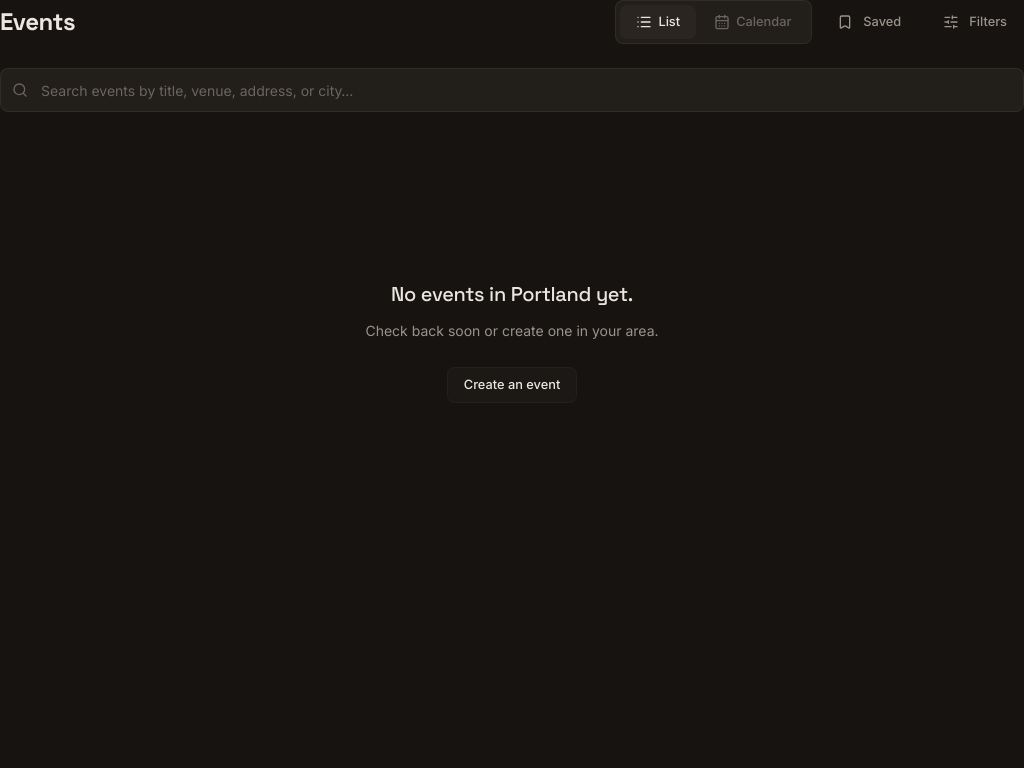
Events page — Step 37 genre filter › shows genre-specific empty state and clears filter from CTA
Expected: the button with aria-label "list view" is shown, x1=619 y1=4 x2=697 y2=40
What coordinates should you click on to do the following:
click the button with aria-label "toggle filters"
I would click on:
 (975, 22)
Its box is x1=926 y1=4 x2=1023 y2=40.
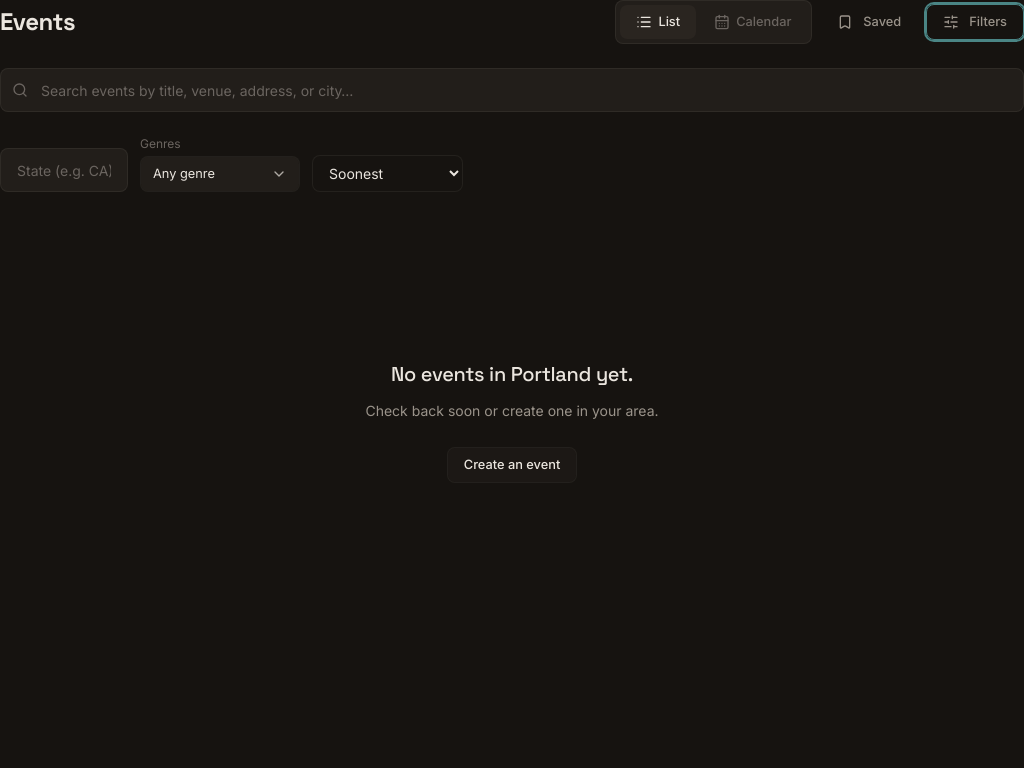
What coordinates should you click on to do the following:
click the button with aria-label "any genre. open genre picker"
I would click on:
 (220, 174)
Its box is x1=140 y1=156 x2=300 y2=192.
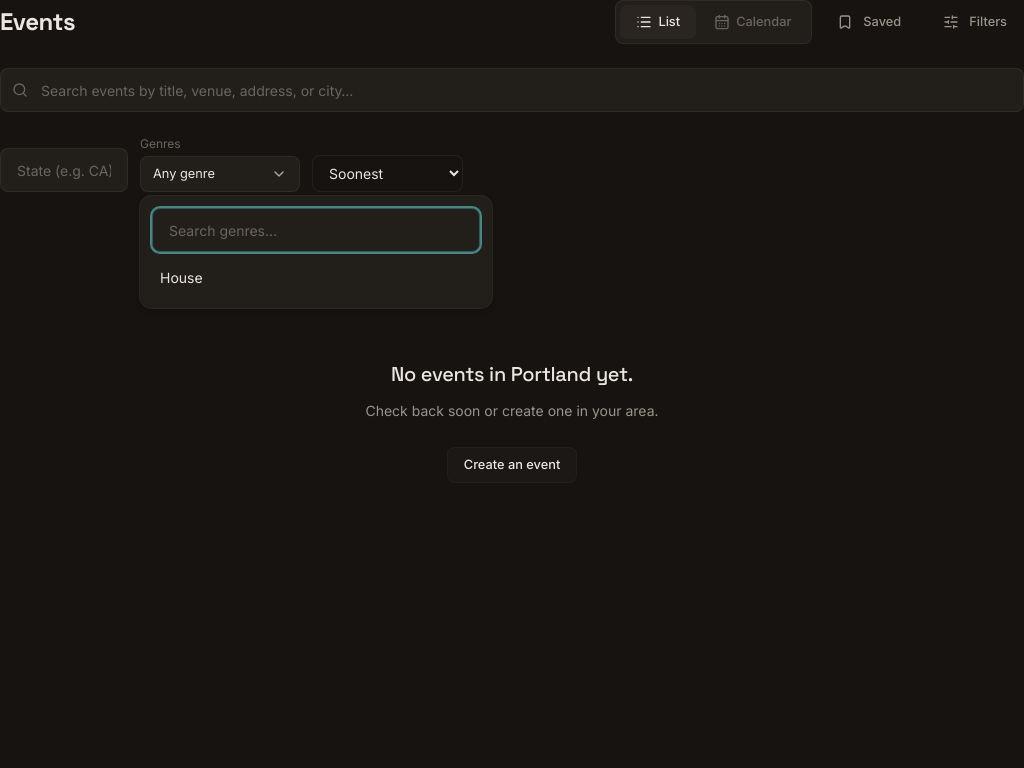
What coordinates should you click on to do the following:
click the option "House"
I would click on:
 (181, 278)
Its box is x1=152 y1=260 x2=476 y2=296.
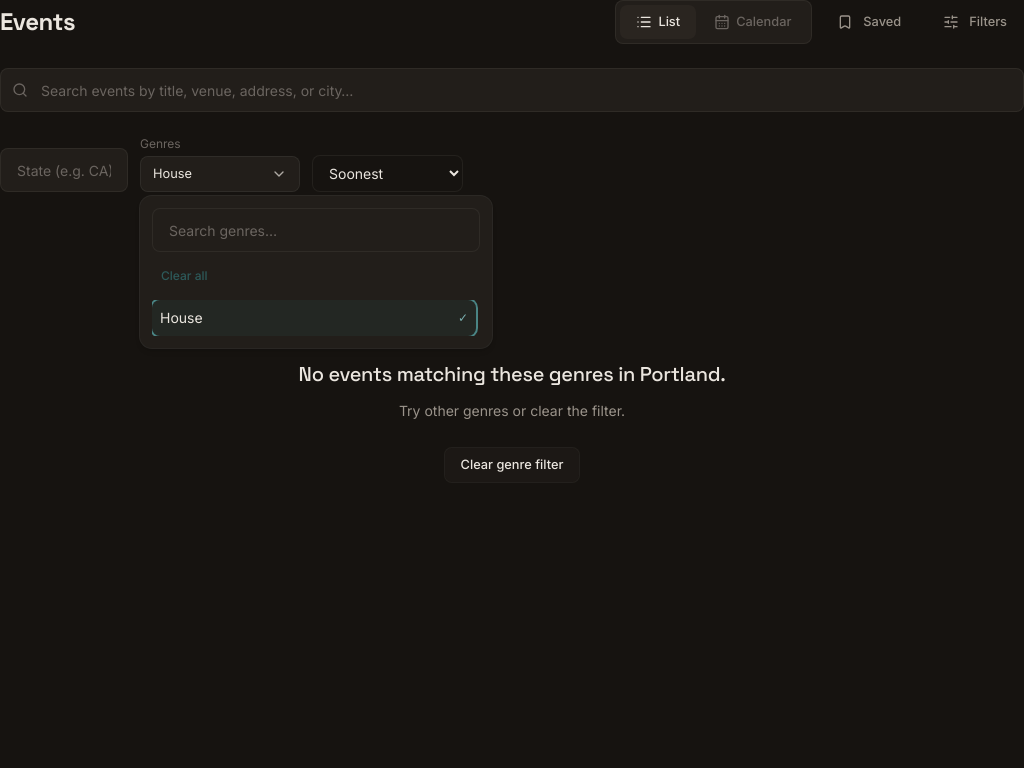
Now the heading "No events matching these genres in Portland." is shown, box x1=299 y1=360 x2=725 y2=388
What coordinates should you click on to do the following:
click the button "Clear genre filter"
I would click on:
 (512, 465)
Its box is x1=444 y1=447 x2=580 y2=483.
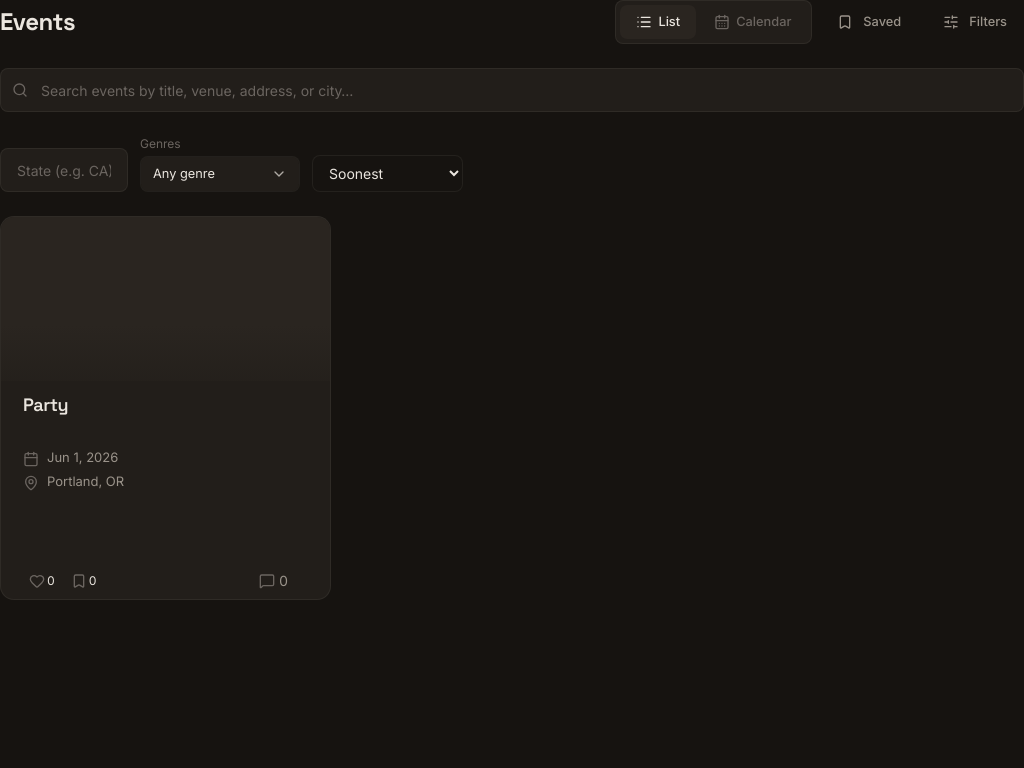
Now the text "Party" is shown, box x1=23 y1=393 x2=68 y2=416
